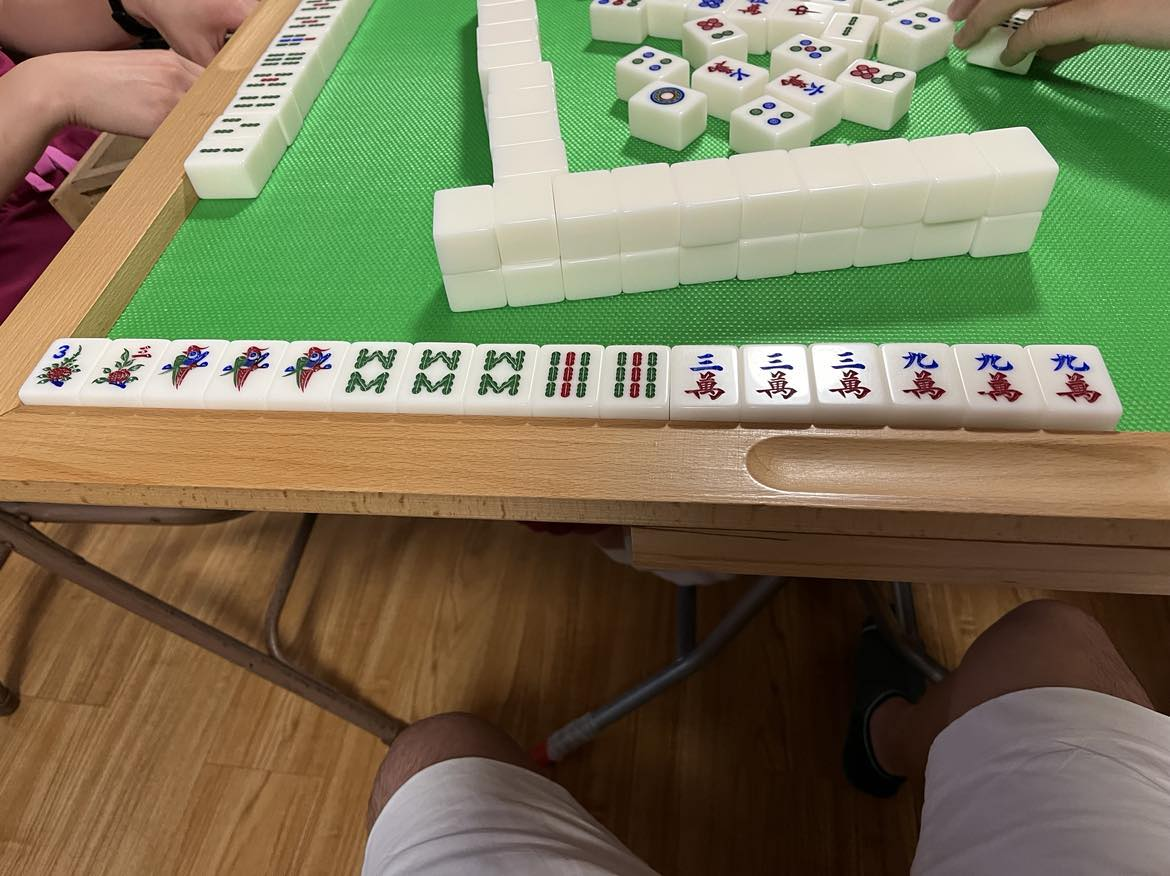bamboo-eight: (410, 345, 463, 403), (346, 342, 399, 399), (478, 347, 525, 401)
bamboo-nine: (611, 348, 664, 406), (541, 347, 591, 403)
bamboo-one: (218, 343, 271, 397), (284, 343, 333, 398), (161, 343, 212, 395)
character-nine: (894, 345, 950, 406), (1048, 351, 1104, 409), (973, 347, 1027, 407)
character-three: (821, 344, 875, 407), (750, 344, 804, 405), (678, 347, 730, 405)
